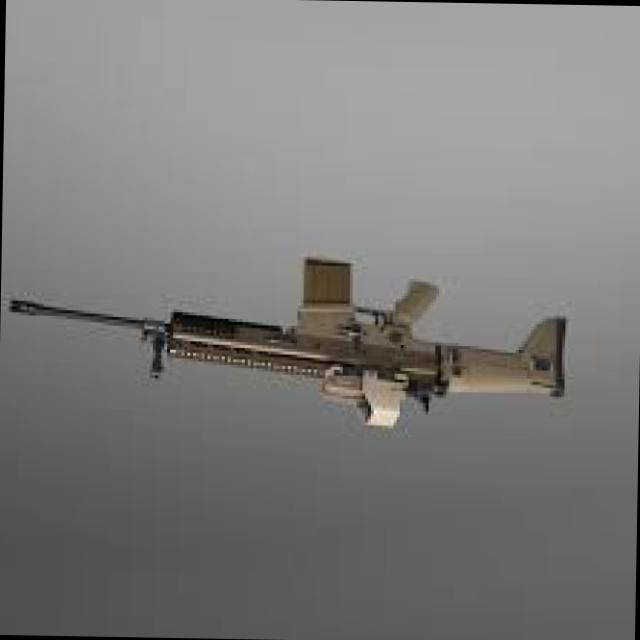Gun: (0, 228, 632, 455)
